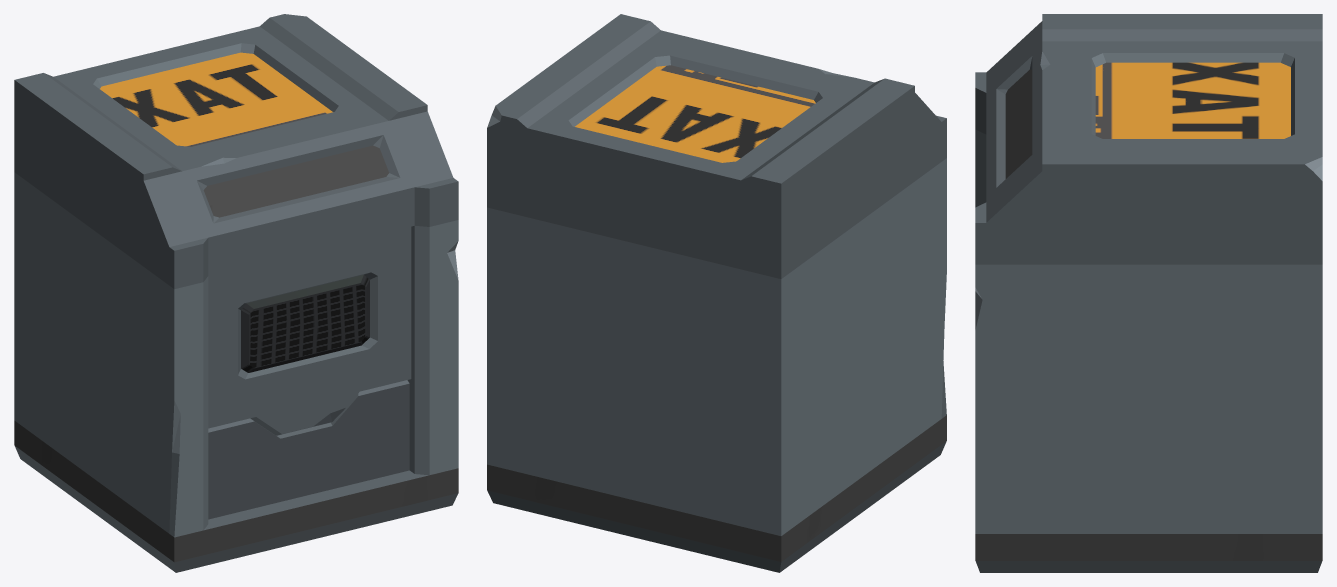
The model's file is SM_Prop_Cage_03.fbx.
The picture shows the model from 3 angles, left to right: view 1: azimuth 30°, elevation 25°; view 2: azimuth 150°, elevation 25°; view 3: azimuth 270°, elevation 25°; orthographic projection. The views are drawn at different scales.
Parts seen in each view (by area): view 1: SM_Props_Cage_03; view 2: SM_Props_Cage_03; view 3: SM_Props_Cage_03.
Boxes of the visible parts, x1,y1,x2,y2 form: SM_Props_Cage_03: (14,14,458,572); SM_Props_Cage_03: (487,14,946,572); SM_Props_Cage_03: (975,14,1322,572).
Size of the model in its own units: 68.85 by 87.64 by 67.13.
